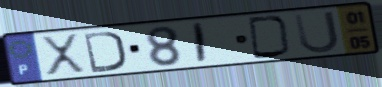8: (142, 24, 183, 68)
D: (246, 15, 294, 61), (81, 30, 128, 75)
I: (193, 21, 209, 65)
U: (292, 9, 343, 56)
X: (39, 32, 89, 77)
